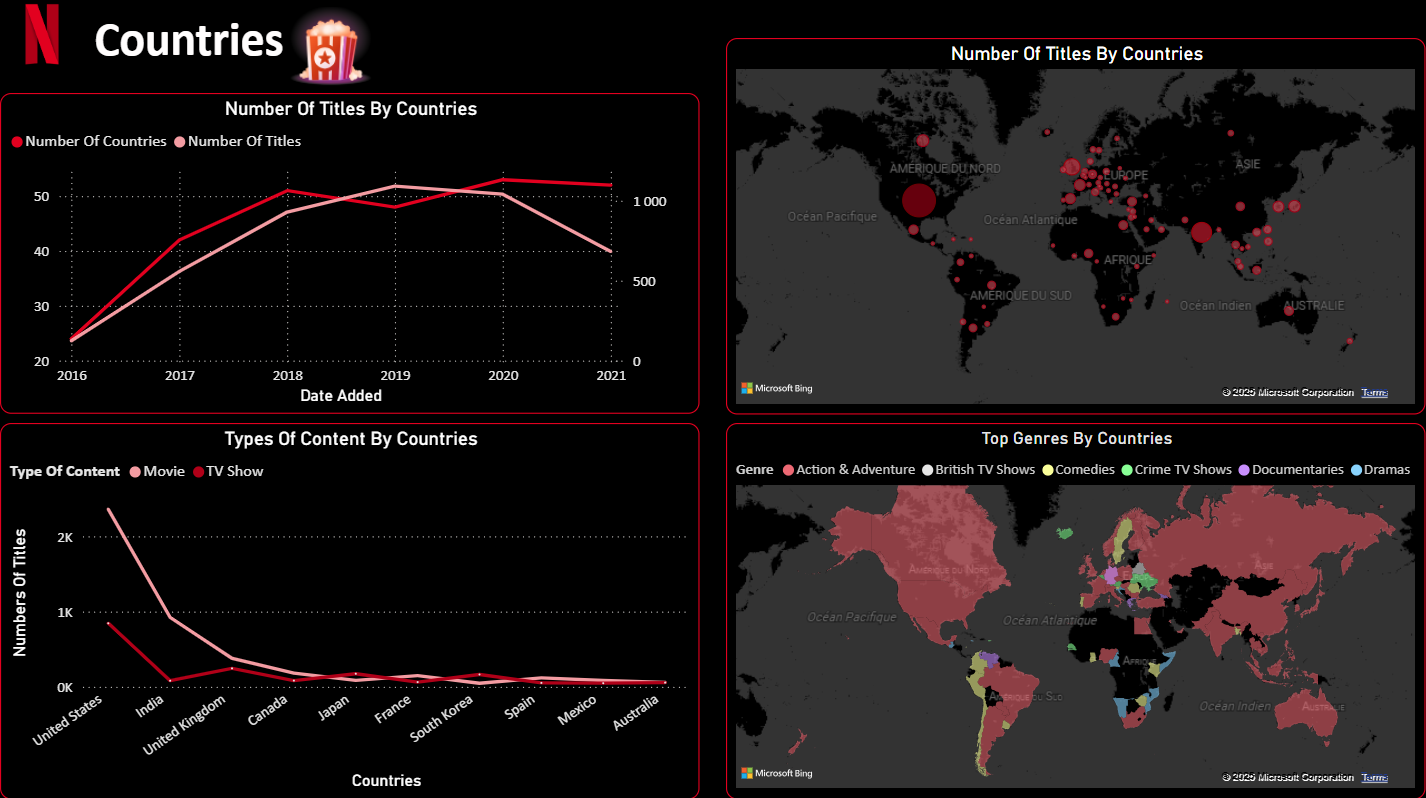

What the dashboard file says about the page in this screenshot:
{"tool":"powerbi","page":{"name":"Countries","canvas":[1280,720],"ordinal":2},"visuals":[{"type":"textbox","box":[67.1,5.8,204.3,68.1],"z":0},{"type":"image","box":[0,1,76.8,66.1],"z":1000},{"type":"lineChart","title":"Types Of Content By Countries","fields":{"Category":["netflix_titles.country_1"],"Y":["CountNonNull(netflix_titles.title)"],"Series":["netflix_titles.type_tv_movie"]},"box":[0,382.2,628.3,337.5],"z":2000},{"type":"map","title":"Number Of Titles By Countries","fields":{"Category":["netflix_titles.country_1"],"Size":["CountNonNull(netflix_titles.title)"]},"box":[651.7,37,628.3,337.5],"z":3000},{"type":"filledMap","title":"Top Genres By Countries","fields":{"Category":["netflix_titles.country_1"],"Series":["netflix_titles.genre_1"]},"box":[651.7,382.2,628.3,337.5],"z":4000},{"type":"lineChart","title":"Number Of Titles By  Countries","fields":{"Category":["netflix_titles.date_added.Variation.Hiérarchie de dates.Année"],"Y":["Count(netflix_titles.country_1)"],"Y2":["CountNonNull(netflix_titles.title)"]},"box":[0,86.6,628.3,287.9],"z":5000},{"type":"image","box":[253.9,0,84.6,90.5],"z":6000}]}

Visuals, with their boxes in screenshot pixels (x1, y1, x2, y2), scaled from the page's 1280x720 canvas onto the 1426x798 screenshot:
textbox: box=[75, 6, 302, 82]
image: box=[0, 1, 86, 74]
"Types Of Content By Countries" lineChart: box=[0, 424, 700, 797]
"Number Of Titles By Countries" map: box=[726, 41, 1425, 415]
"Top Genres By Countries" filledMap: box=[726, 424, 1425, 797]
"Number Of Titles By  Countries" lineChart: box=[0, 96, 700, 415]
image: box=[283, 0, 377, 100]
